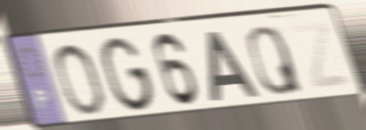6: (151, 31, 200, 109)
A: (206, 28, 262, 103)
G: (98, 34, 157, 115)
O: (50, 41, 107, 118)
Q: (245, 23, 306, 98)
Z: (285, 17, 356, 93)
